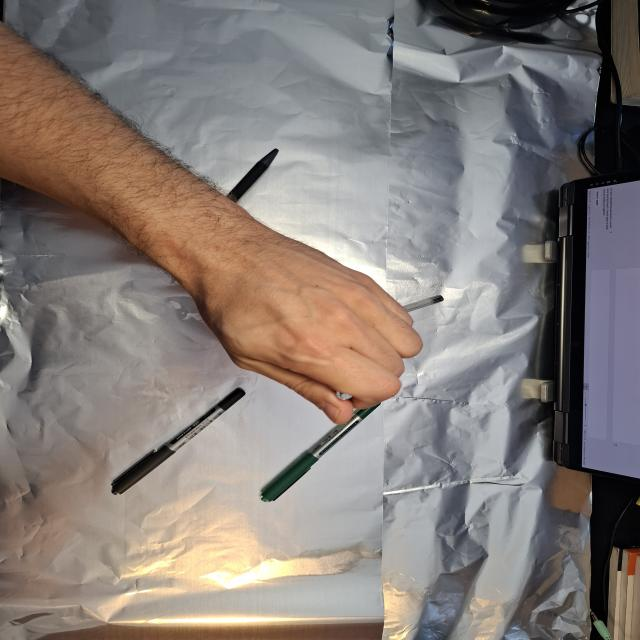glove_off: (184, 233, 426, 426)
